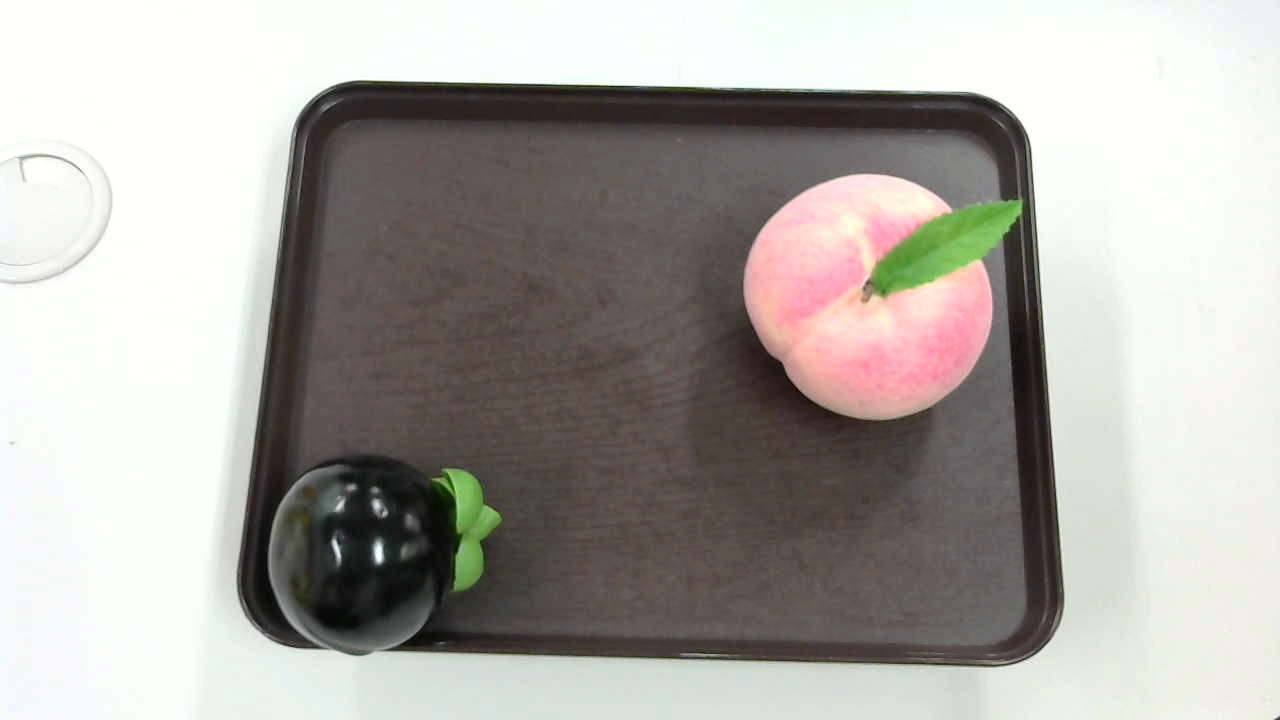mangosteen: (261, 455, 500, 663)
peach: (737, 167, 1026, 437)
